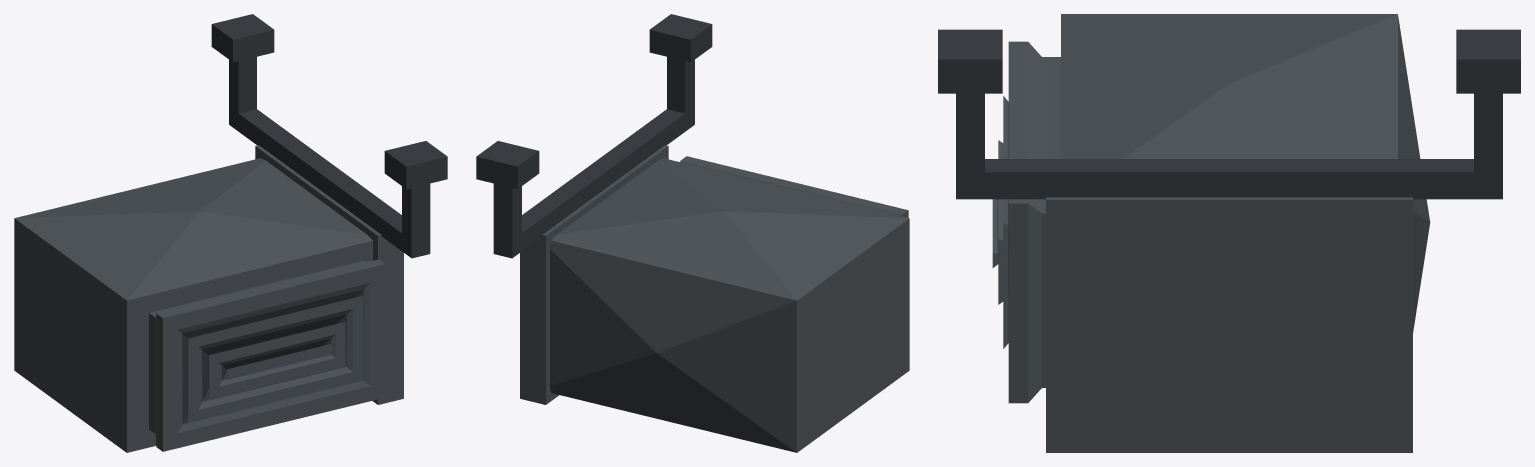
File: SM_Prop_Ducting_02_Vent_Side.glb
3 renders of one model, left to right at view 1: azimuth 30°, elevation 25°; view 2: azimuth 150°, elevation 25°; view 3: azimuth 270°, elevation 25°, orthographic. The views are drawn at different scales.
Parts seen in each view (by area): view 1: SM_Prop_Ducting_02_Vent_Side; view 2: SM_Prop_Ducting_02_Vent_Side; view 3: SM_Prop_Ducting_02_Vent_Side.
Boxes of the visible parts, x1,y1,x2,y2 form: SM_Prop_Ducting_02_Vent_Side: (14,14,447,452); SM_Prop_Ducting_02_Vent_Side: (476,14,909,452); SM_Prop_Ducting_02_Vent_Side: (938,14,1520,452).
Size of the model in its own units: 1.08 by 1.01 by 1.3.
1 material, 1 textured.
